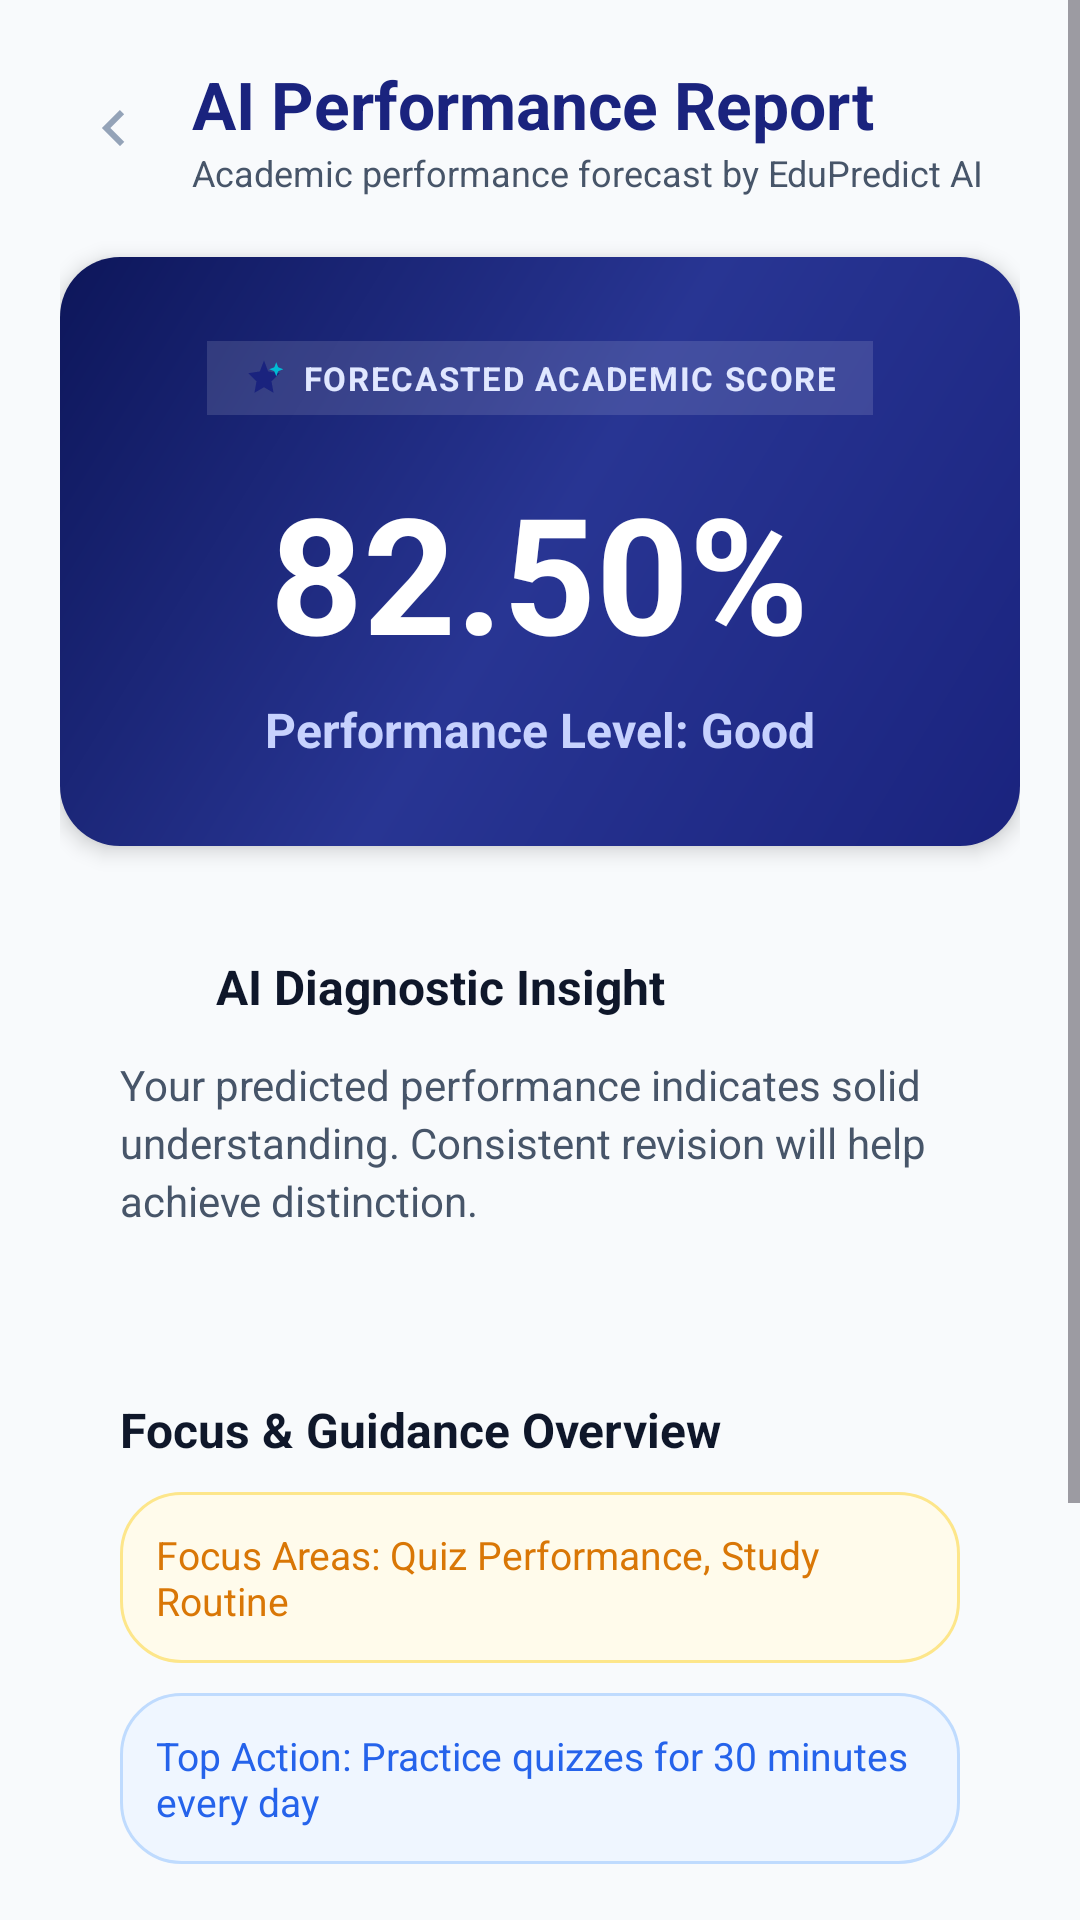

Icons on this 1080 x 1920 Android screen, each with its box as bbox=(x1, y1, x2, y2):
prediction: bbox=(249, 362, 283, 392)
